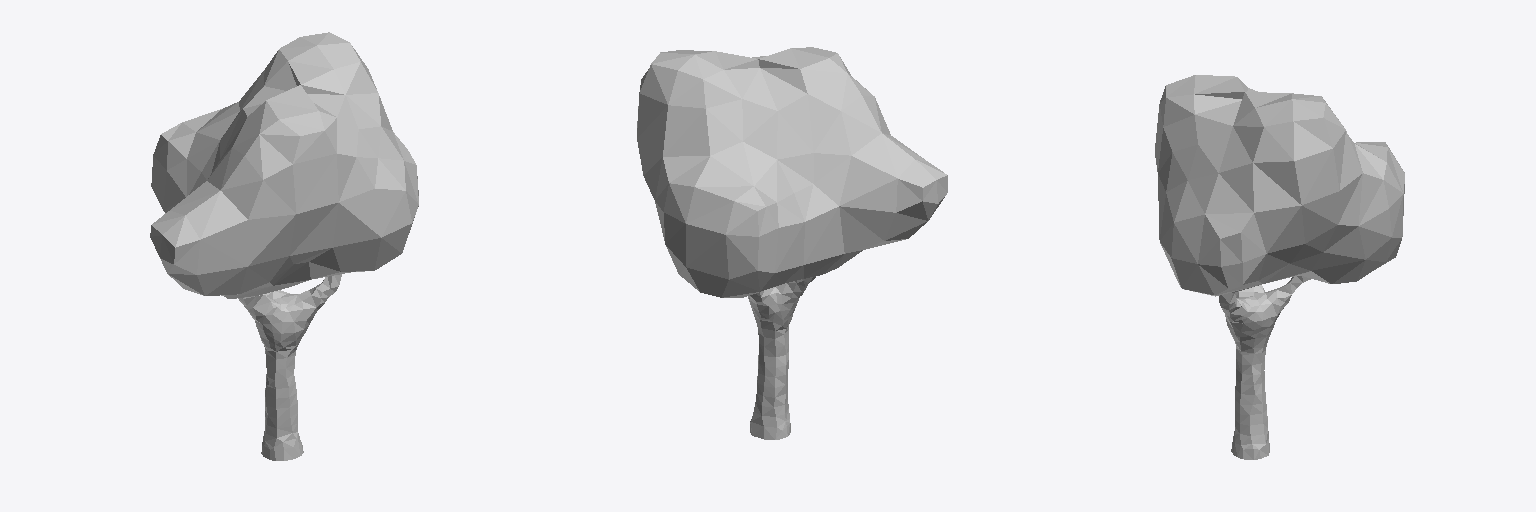
The model's file is tree2.obj.
3 views of the same model, side by side, from view 1: azimuth 30°, elevation 25°; view 2: azimuth 150°, elevation 25°; view 3: azimuth 270°, elevation 25° (orthographic).
Parts seen in each view (by area): view 1: Tree2; view 2: Tree2; view 3: Tree2.
Boxes of the visible parts, x1=… form: Tree2: x1=150, y1=32, x2=418, y2=460; Tree2: x1=637, y1=47, x2=947, y2=439; Tree2: x1=1155, y1=75, x2=1404, y2=459.
Size of the model in its own units: 7.35 by 10.01 by 6.